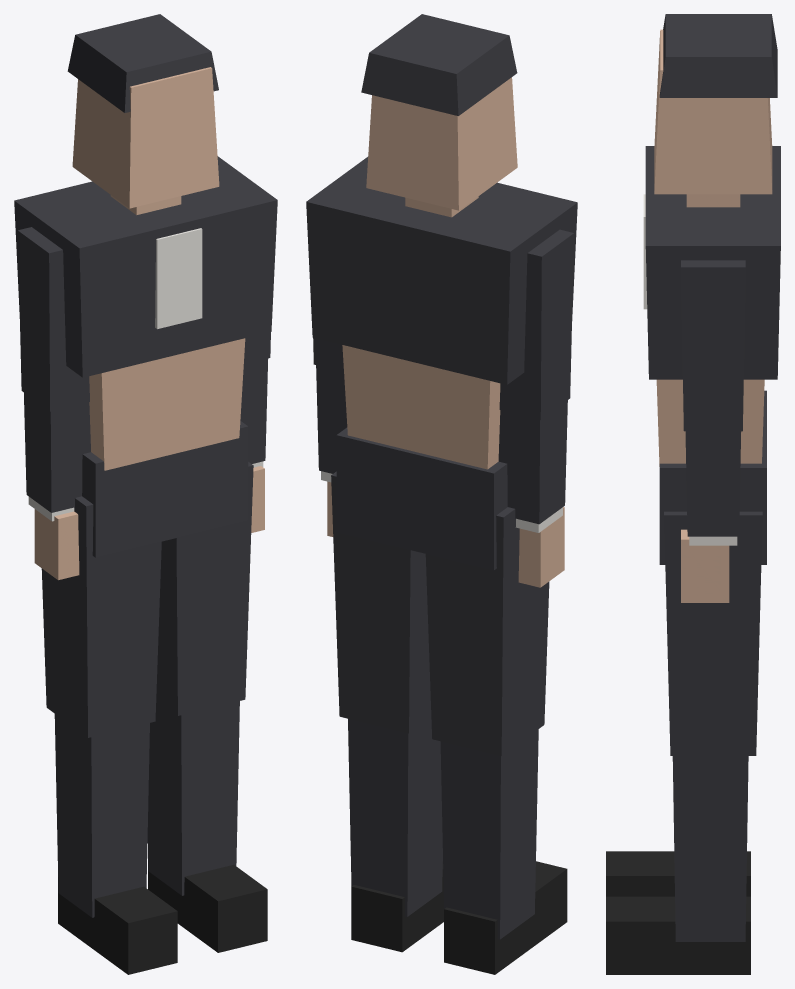
Rendered from mannequin.glb.
3 renders of one model, left to right at view 1: azimuth 30°, elevation 25°; view 2: azimuth 150°, elevation 25°; view 3: azimuth 270°, elevation 25°, orthographic. The views are drawn at different scales.
Parts seen in each view (by area): view 1: chest_suit, upperLegR_suit, upperLegL_suit, head_skin, lowerLegR_suit, lowerLegL_suit, spine_skin, hips_suit, upperArmR_suit, head_suit, footR_shoe, footL_shoe (+6 smaller); view 2: chest_suit, upperLegR_suit, upperLegL_suit, hips_suit, lowerLegR_suit, lowerLegL_suit, head_skin, spine_skin, head_suit, upperArmR_suit, lowerArmR_suit, footR_shoe (+4 smaller); view 3: upperLegL_suit, chest_suit, lowerLegL_suit, head_skin, upperArmL_suit, head_suit, footL_shoe, lowerArmL_suit, spine_skin, hips_suit, footR_shoe, handL_skin (+2 smaller).
Boxes of the visible parts, x1,y1,x2,y2 form: chest_suit: (14,156,277,377); upperLegR_suit: (41,496,161,737); upperLegL_suit: (156,462,253,715); head_skin: (72,67,219,208); lowerLegR_suit: (54,714,149,917); lowerLegL_suit: (147,700,239,895); spine_skin: (89,338,245,470); hips_suit: (82,421,248,557); upperArmR_suit: (17,227,89,411); head_suit: (67,14,218,112); footR_shoe: (58,877,177,974); footL_shoe: (148,860,267,952); chest_suit: (306,156,577,384); upperLegR_suit: (425,507,549,755); upperLegL_suit: (331,471,431,733); hips_suit: (336,427,507,570); lowerLegR_suit: (440,729,538,939); lowerLegL_suit: (348,717,442,916); head_skin: (366,77,517,210); spine_skin: (342,345,500,469); head_suit: (361,14,517,115); upperArmR_suit: (499,229,574,419); lowerArmR_suit: (498,400,567,524); footR_shoe: (444,861,567,974); upperLegL_suit: (664,511,762,755); chest_suit: (645,146,780,379); lowerLegL_suit: (672,756,748,941); head_skin: (654,29,772,194); upperArmL_suit: (681,260,745,431); head_suit: (659,14,777,97); footL_shoe: (606,896,750,974); lowerArmL_suit: (685,431,741,536); spine_skin: (656,379,764,466); hips_suit: (659,390,766,564); footR_shoe: (606,851,750,896); handL_skin: (681,529,729,602).
Bounding box in the file's own units: 0.501 × 1.86 × 0.326.
